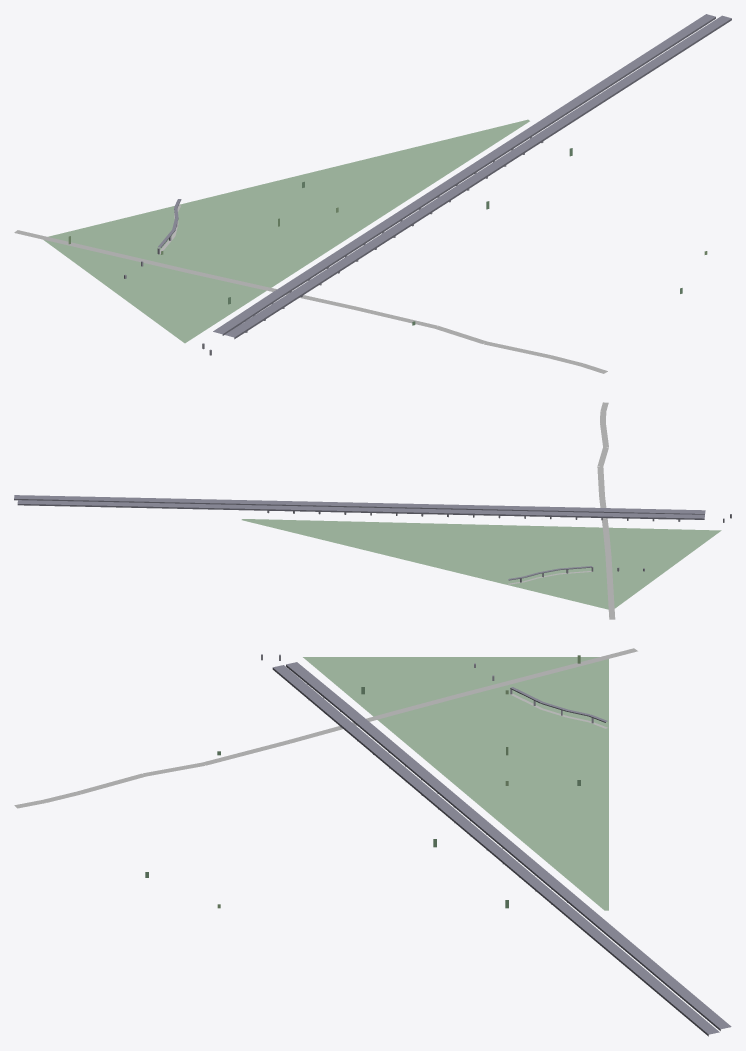
3 renders of one model, top to bottom at view 1: azimuth 30°, elevation 25°; view 2: azimuth 150°, elevation 25°; view 3: azimuth 270°, elevation 25°, orthographic. The views are drawn at different scales.
Bounding box in the file's own units: 773 × 9.27 × 599.
